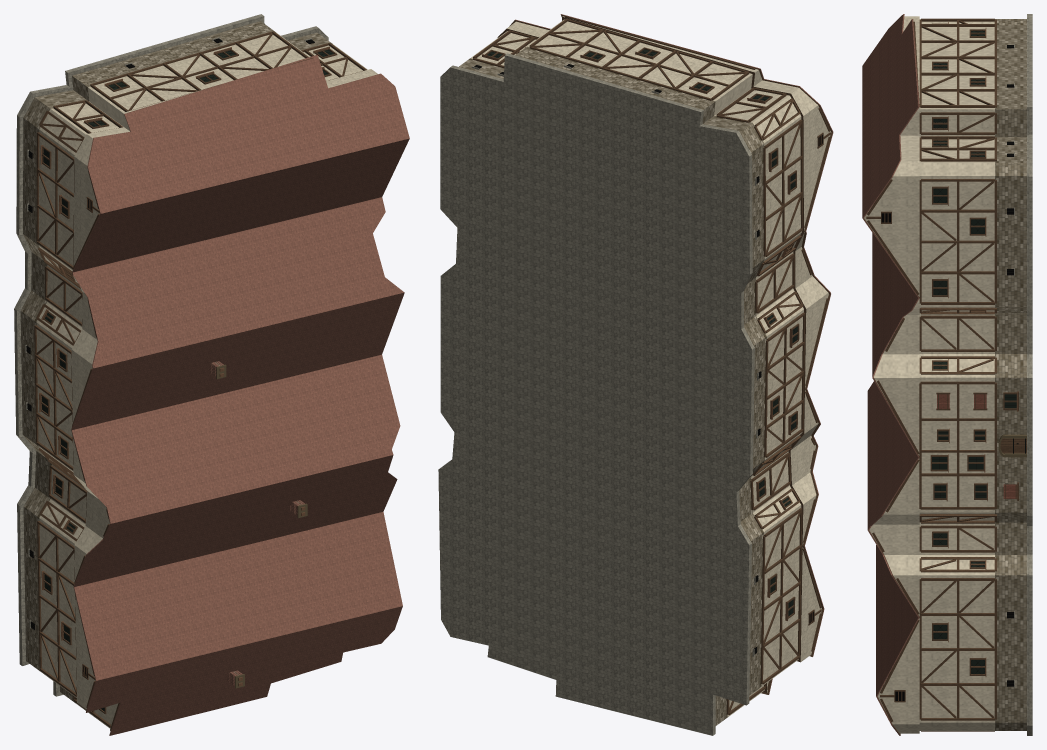
File: SM_GLMedieval_NorthMarketDetail_east_0a73564b.obj
3 renders of one model, left to right at view 1: azimuth 30°, elevation 25°; view 2: azimuth 150°, elevation 25°; view 3: azimuth 270°, elevation 25°, orthographic.
Bounding box in the file's own units: 26.31 × 50.48 × 12.2.
Materials: 11 (7 with a texture image).
